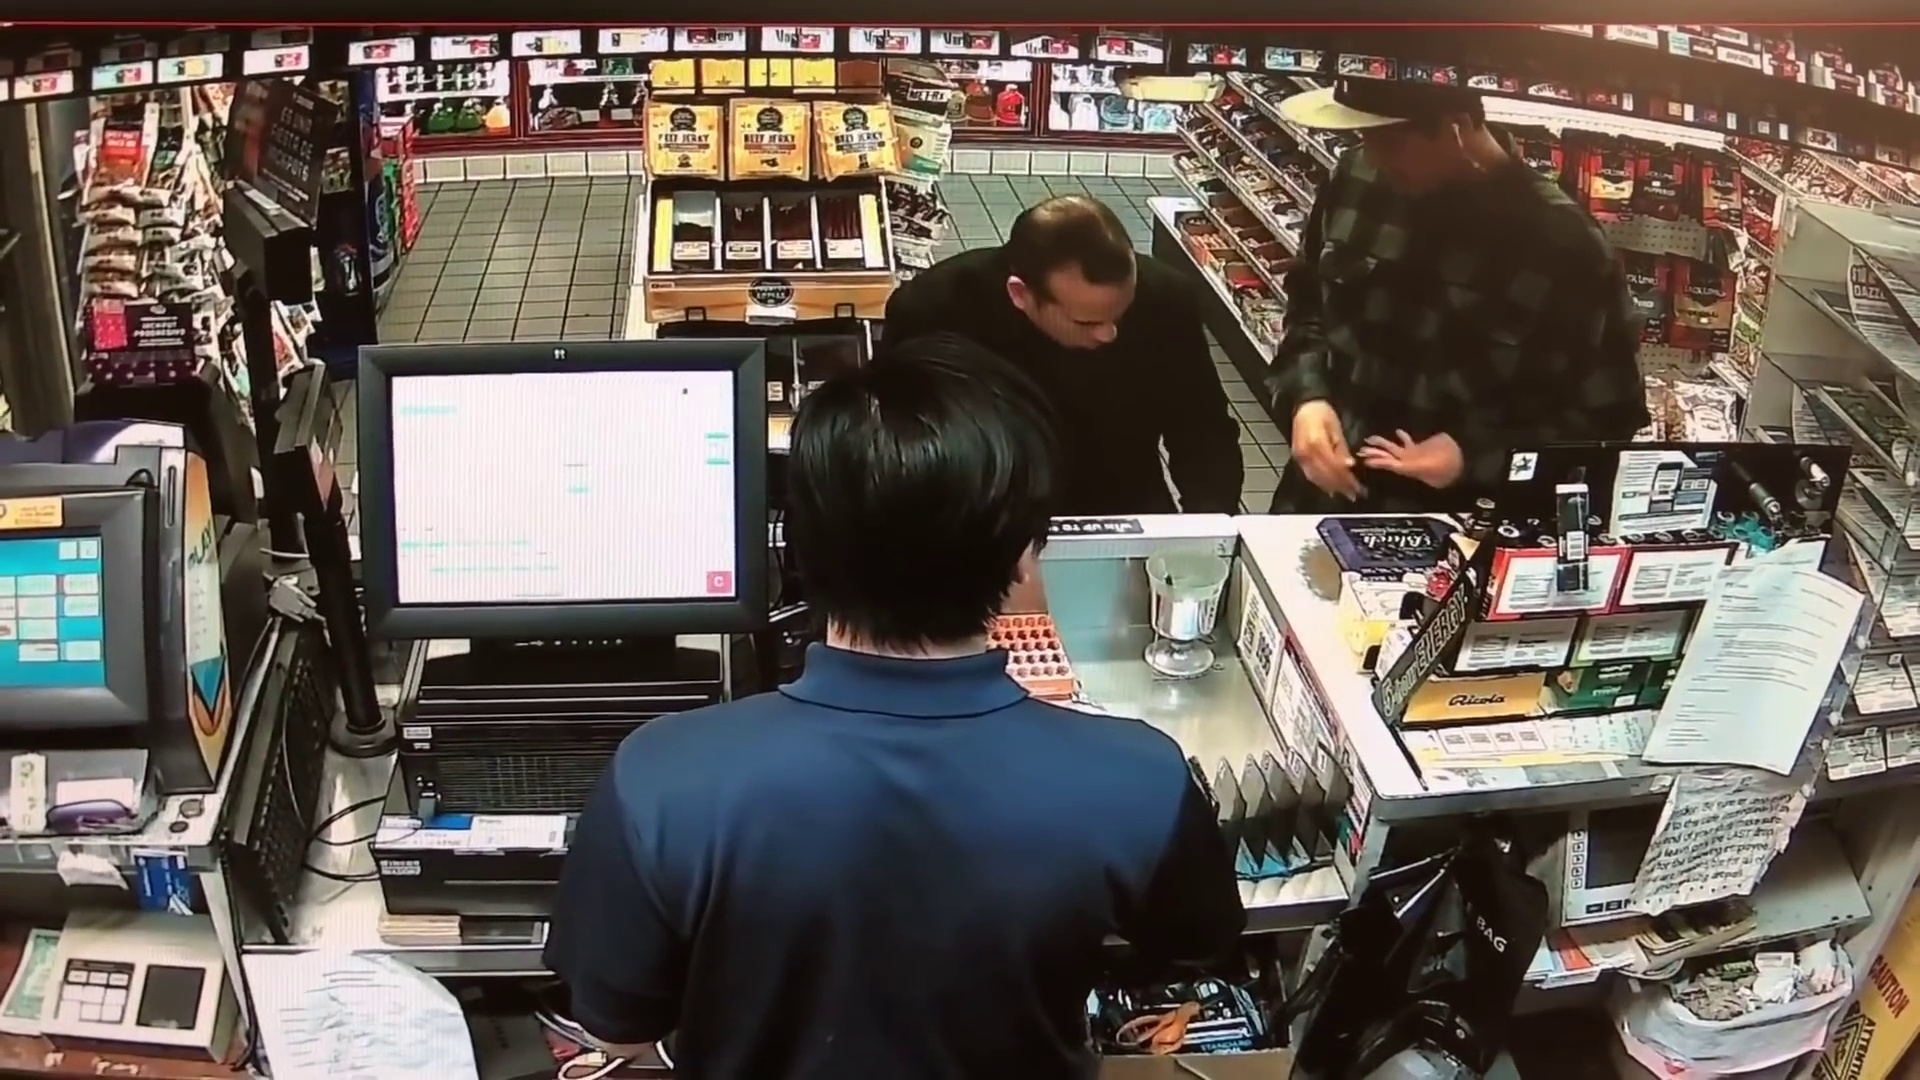face: (1348, 116, 1461, 204), (1034, 257, 1125, 358)
